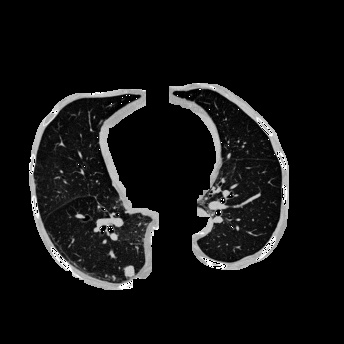PN: (123, 264, 137, 278)
